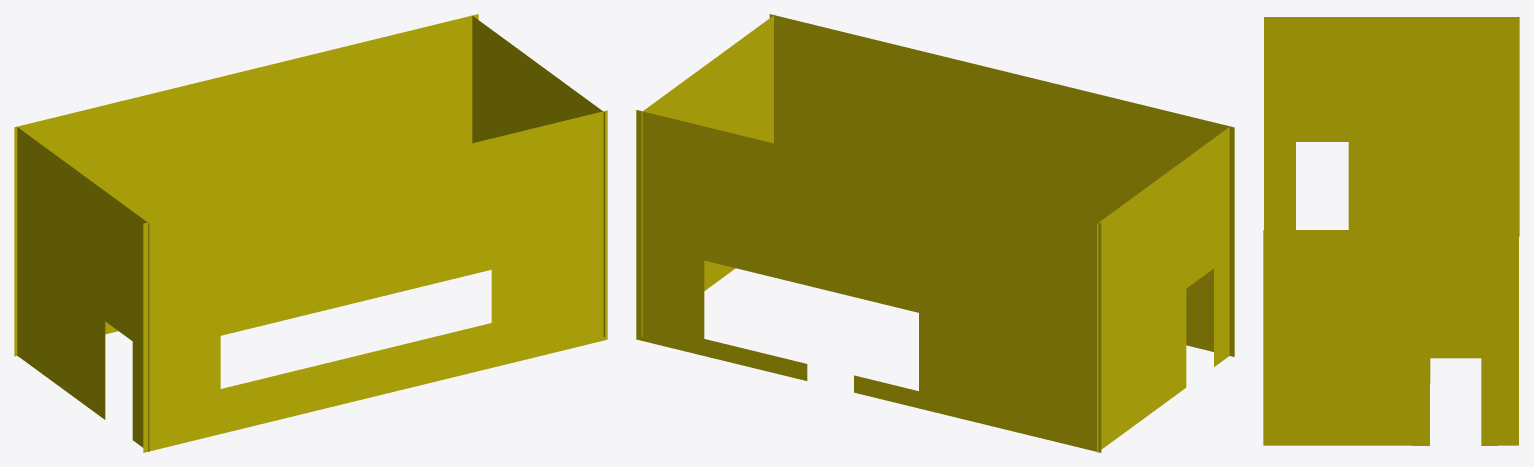
3 views of the same model, side by side, from view 1: azimuth 30°, elevation 25°; view 2: azimuth 150°, elevation 25°; view 3: azimuth 270°, elevation 25° (orthographic). The views are drawn at different scales.
Visible parts, largest first — view 1: W_02B_WP_01; view 2: W_02B_WP_01; view 3: W_02B_WP_01.
Boxes of the visible parts, <box> form: W_02B_WP_01: <box>14,14,607,452</box>; W_02B_WP_01: <box>636,14,1234,452</box>; W_02B_WP_01: <box>1263,17,1519,445</box>.
Bounding box in the file's own units: 1203 × 565 × 597.
